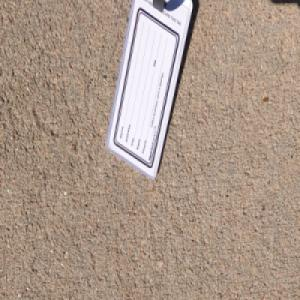LuggageTag: (105, 0, 194, 182)
